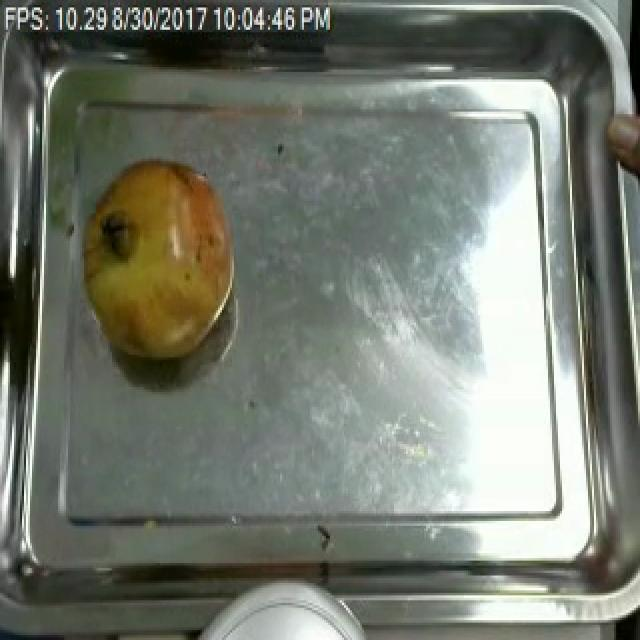fruit: (78, 148, 244, 370), (606, 89, 640, 196)
